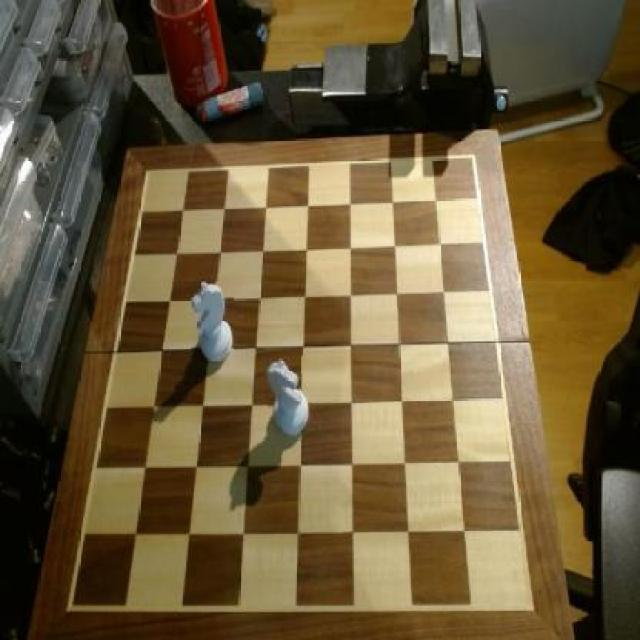white-king: (268, 358, 312, 442), (190, 283, 234, 365)
